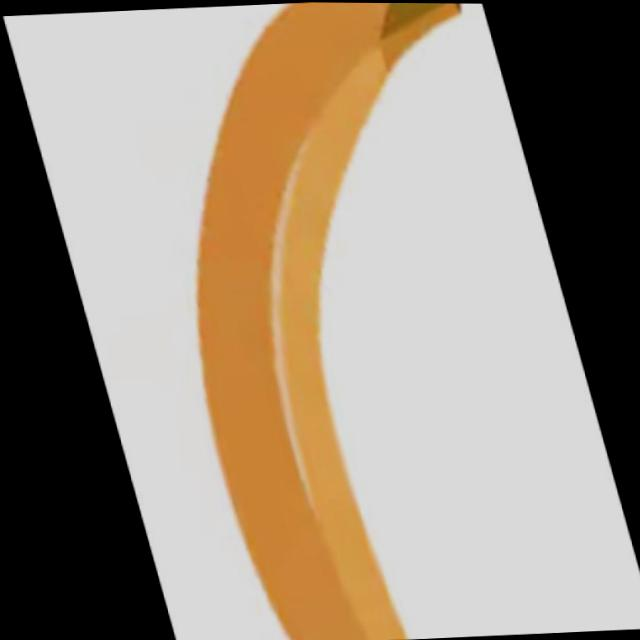Banana: (173, 1, 500, 640)
